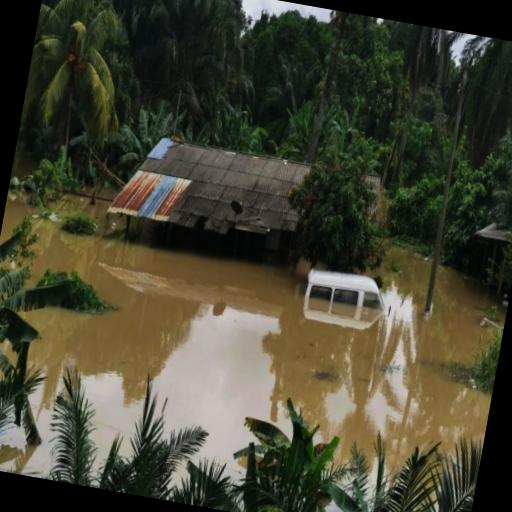flood: (19, 197, 507, 479), (0, 190, 43, 249), (0, 423, 36, 476), (255, 394, 291, 438), (0, 338, 16, 375)
house: (108, 128, 300, 252)
